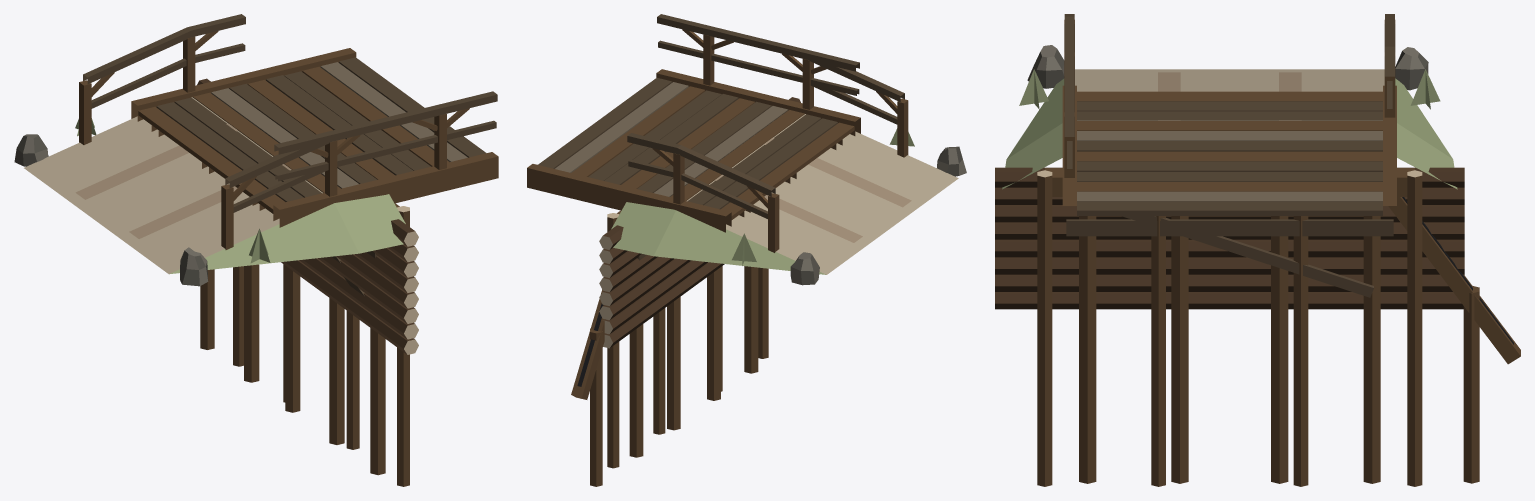
The model's file is wasser_holzbruecke.glb.
3 views of the same model, side by side, from view 1: azimuth 30°, elevation 25°; view 2: azimuth 150°, elevation 25°; view 3: azimuth 270°, elevation 25° (orthographic). The views are drawn at different scales.
Visible parts, largest first — view 1: Holz_Ende, Holz_Joch, Holz_Gelaender; view 2: Holz_Ende, Holz_Joch, Holz_Gelaender; view 3: Holz_Joch, Holz_Ende, Holz_Gelaender.
Part boxes in pixels (bbox=[...]): Holz_Ende: bbox=[14, 14, 418, 486]; Holz_Joch: bbox=[131, 48, 498, 475]; Holz_Gelaender: bbox=[274, 91, 497, 181]; Holz_Ende: bbox=[599, 38, 966, 468]; Holz_Joch: bbox=[527, 69, 860, 486]; Holz_Gelaender: bbox=[657, 14, 859, 95]; Holz_Joch: bbox=[1045, 85, 1520, 483]; Holz_Ende: bbox=[995, 14, 1464, 486]; Holz_Gelaender: bbox=[1064, 16, 1074, 177].
Size of the model in its own units: 6 by 6.25 by 7.39.
